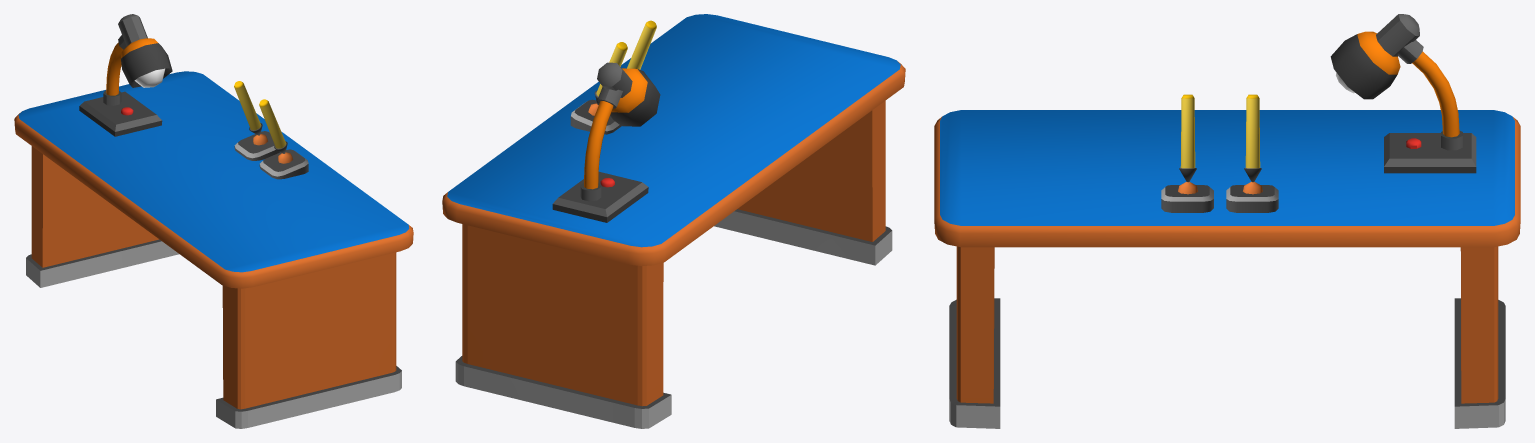
Rendered from Officer Table.fbx.
The picture shows the model from 3 angles, left to right: view 1: azimuth 30°, elevation 25°; view 2: azimuth 150°, elevation 25°; view 3: azimuth 270°, elevation 25°; orthographic projection. The views are drawn at different scales.
Parts seen in each view (by area): view 1: Officer Table; view 2: Officer Table; view 3: Officer Table.
Part boxes in pixels (bbox=[...]): Officer Table: bbox=[14, 14, 413, 428]; Officer Table: bbox=[442, 14, 905, 428]; Officer Table: bbox=[934, 14, 1520, 428].
Bounding box in the file's own units: 6.82 × 9.22 × 13.99.
